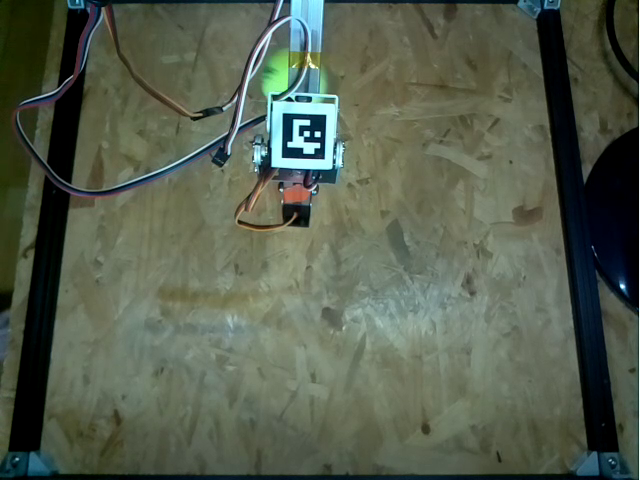tennis_ball: (262, 47, 328, 93)
